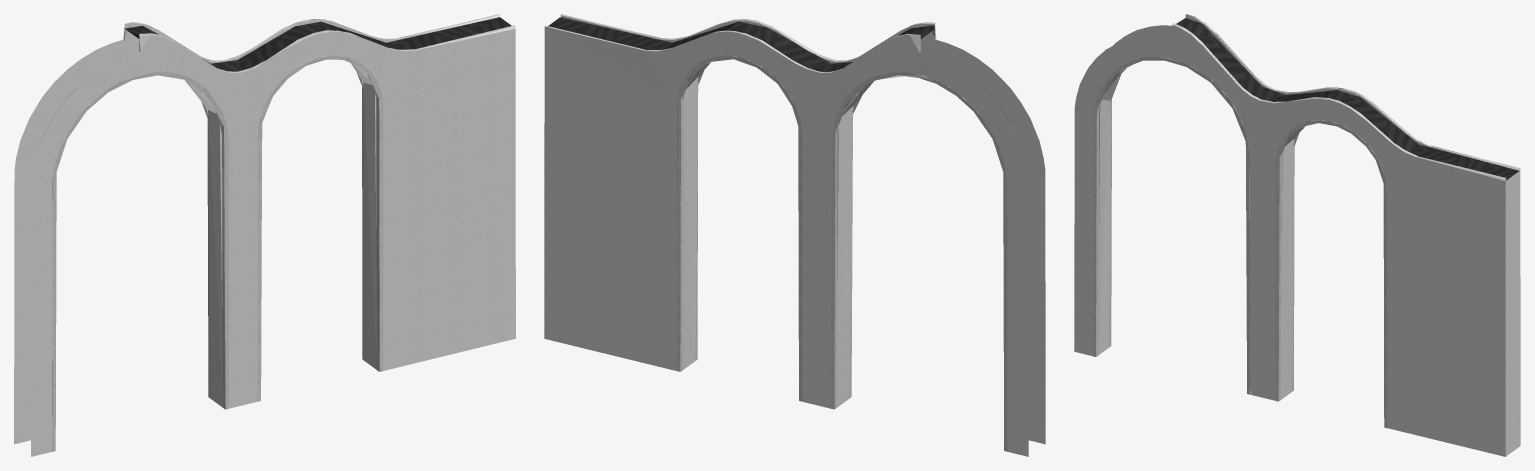
The model's file is CapWorldBridge.obj.
The picture shows the model from 3 angles, left to right: view 1: azimuth 30°, elevation 25°; view 2: azimuth 150°, elevation 25°; view 3: azimuth 330°, elevation 25°; orthographic projection. The views are drawn at different scales.
Visible parts, largest first — view 1: Bridge_meshId0_name.001; view 2: Bridge_meshId0_name.001; view 3: Bridge_meshId0_name.001.
Part boxes in pixels (x1=…): Bridge_meshId0_name.001: x1=14, y1=14, x2=515, y2=456; Bridge_meshId0_name.001: x1=544, y1=14, x2=1045, y2=456; Bridge_meshId0_name.001: x1=1074, y1=14, x2=1520, y2=456.
Bounding box in the file's own units: 9817 × 7645 × 616.
